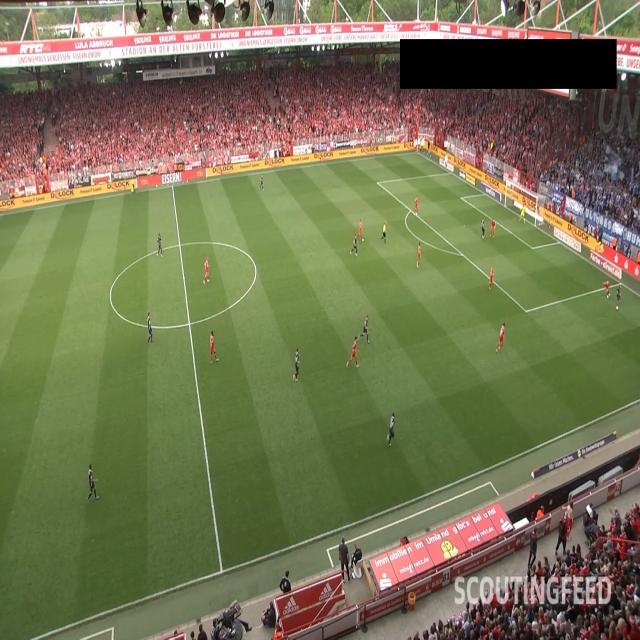ball: (615, 305, 619, 311)
